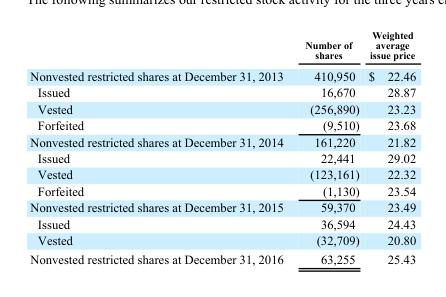table: (29, 28, 415, 265)
table column: (29, 28, 293, 265), (293, 28, 363, 265), (363, 28, 415, 265)
table column header: (29, 28, 415, 64)
table row: (29, 28, 415, 64), (29, 64, 415, 83), (29, 231, 415, 249), (29, 83, 415, 100), (29, 116, 415, 133), (29, 165, 415, 182), (29, 198, 415, 215), (29, 100, 415, 116), (29, 133, 415, 149), (29, 149, 415, 165), (29, 182, 415, 198), (29, 215, 415, 231), (29, 249, 415, 265)
